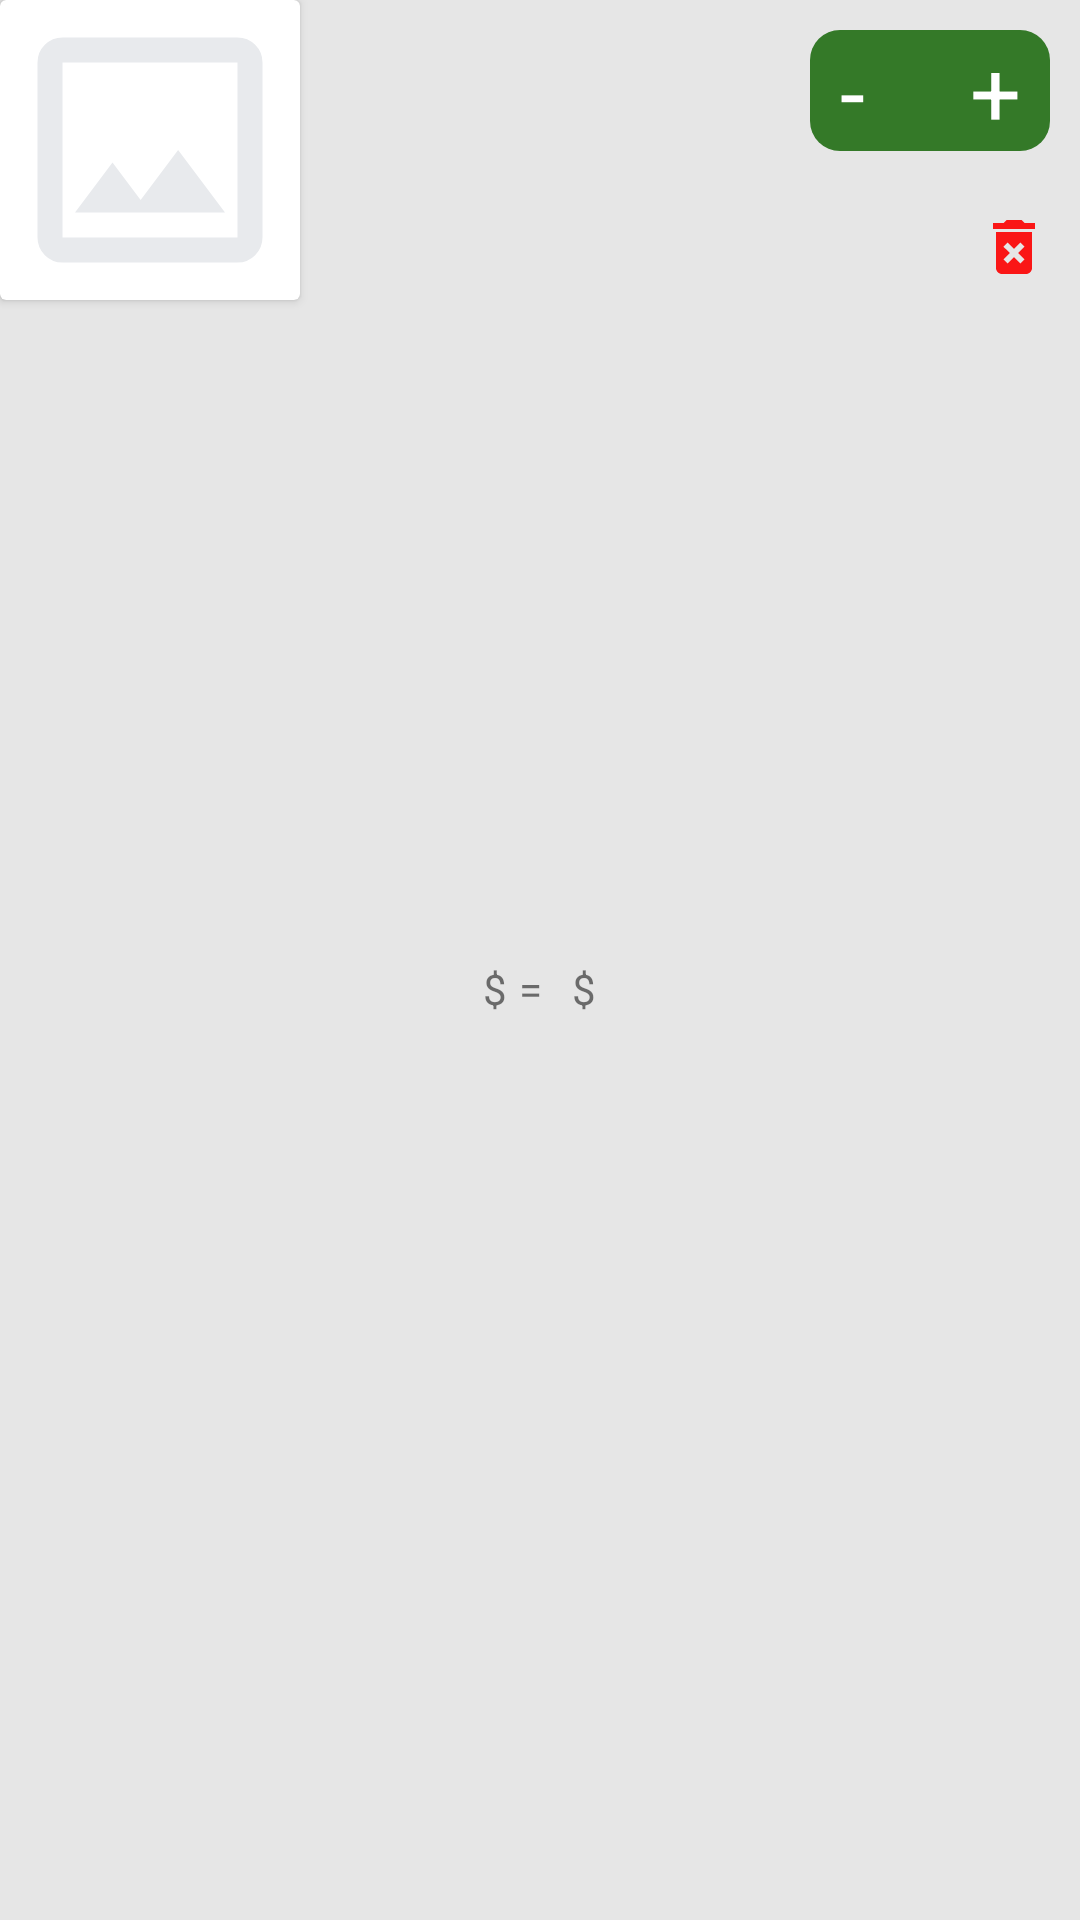

Icons on this 1080x1920 Android screen, each with its box as BBox(x1, y1, x2, y2):
delete forever: BBox(993, 220, 1035, 274)
